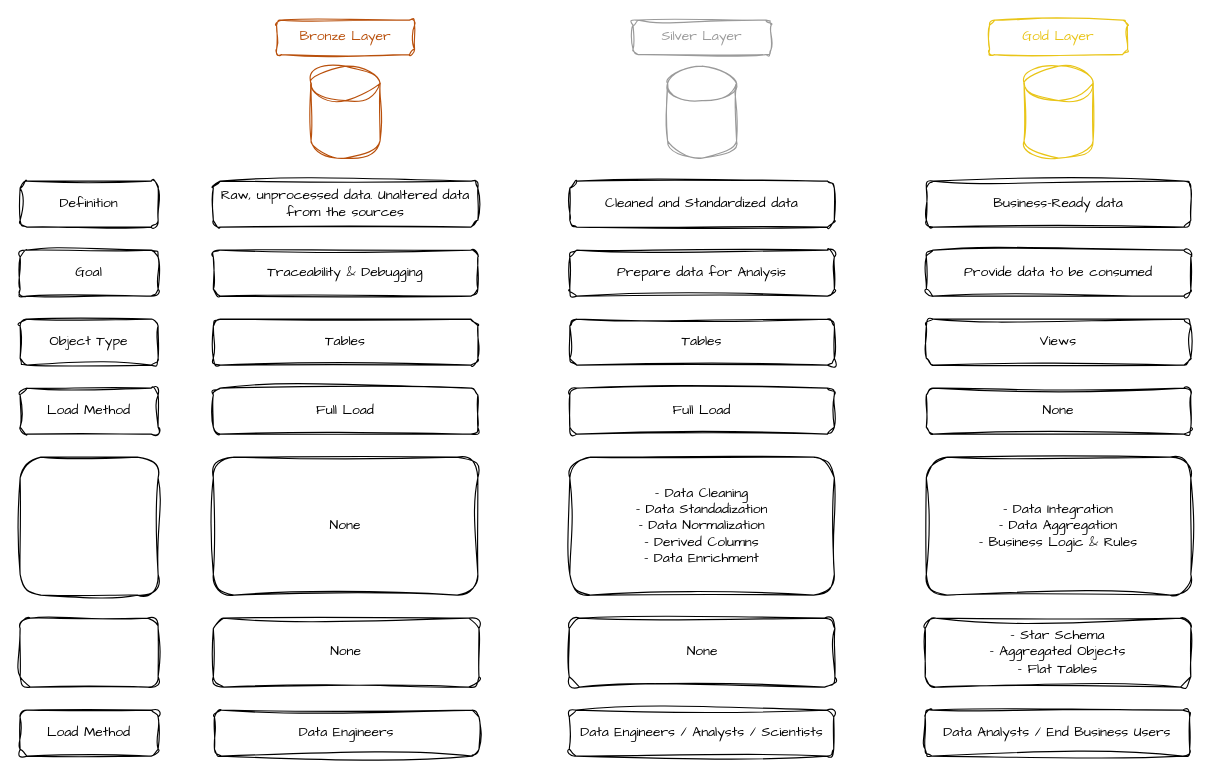
This 1211x776 diagram has some shape labels left out. Each missing label, with the centre of its shape:
"Data Modeling" goes at (88,652).
"Data Transformation" goes at (88,525).
